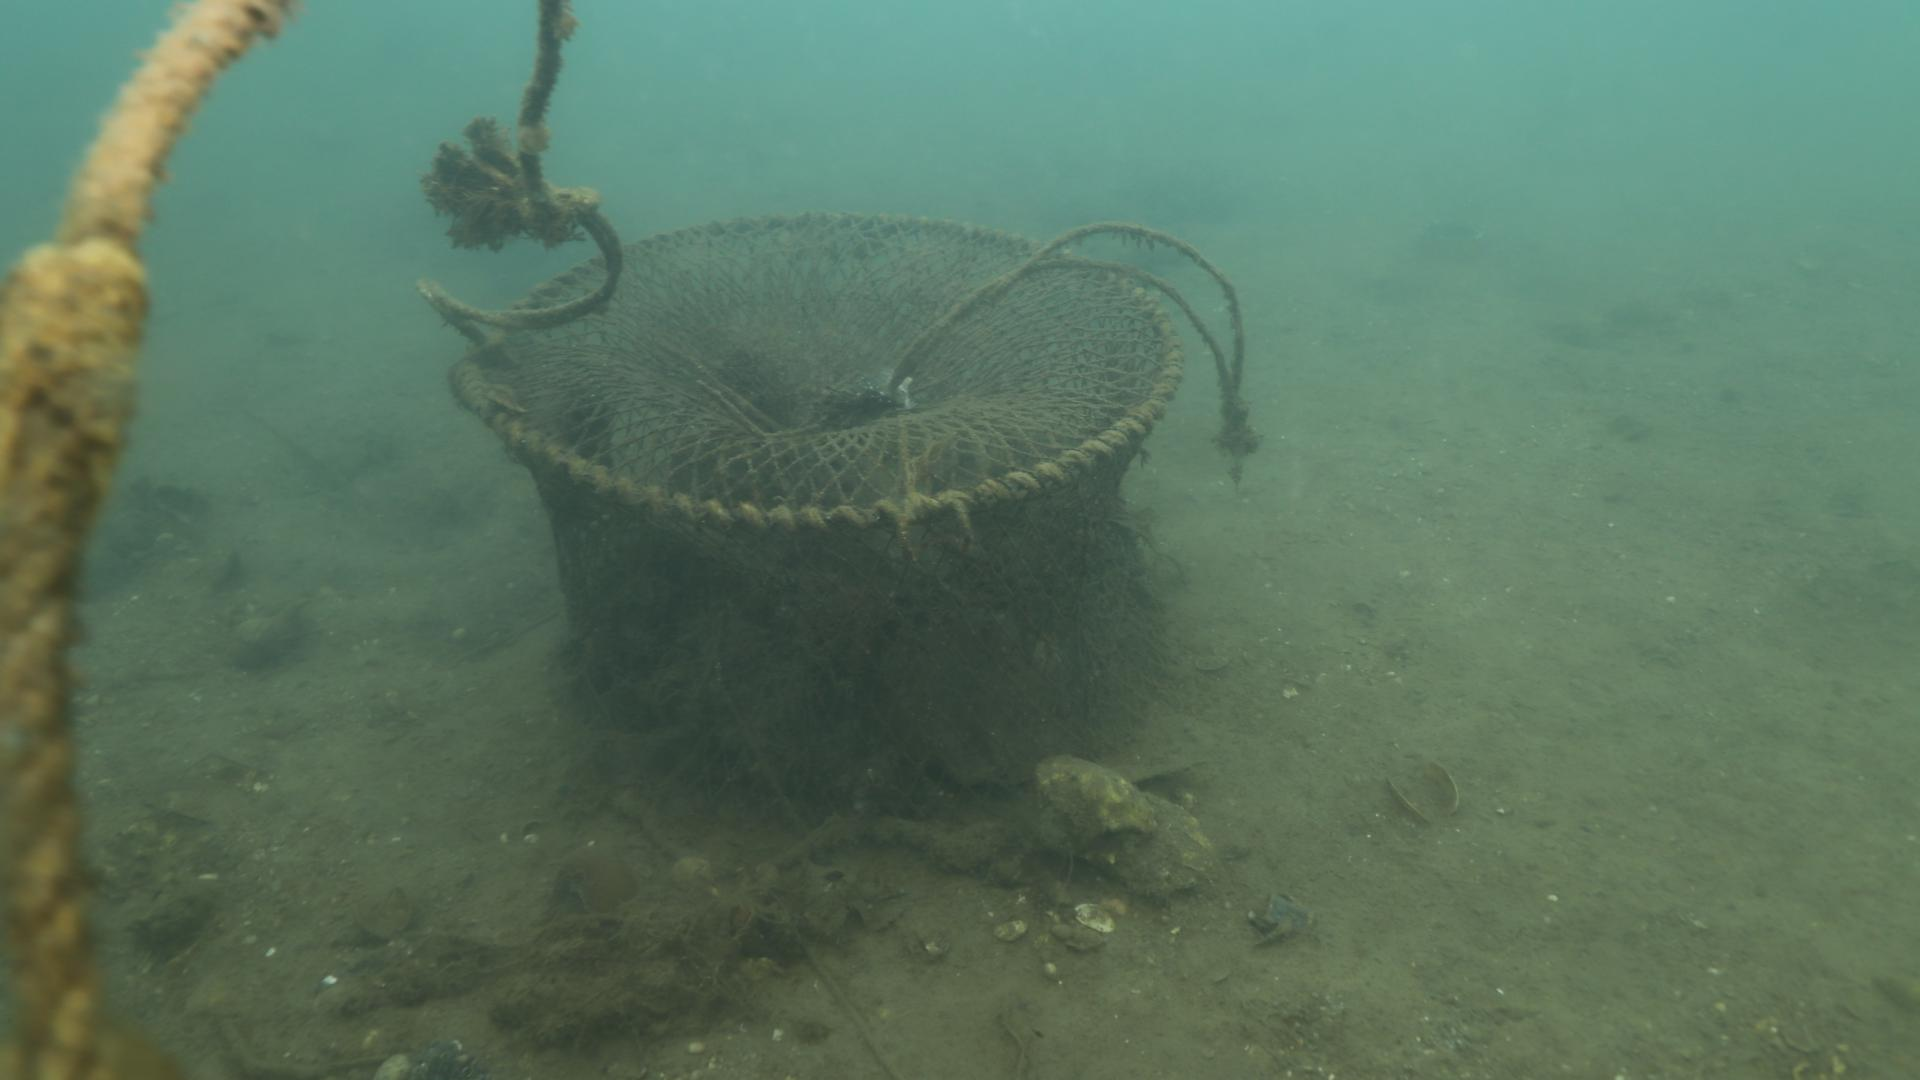bundle of ropes: (882, 218, 1247, 443)
circular fish trap: (444, 206, 1189, 818)
rope: (0, 0, 622, 1080)
